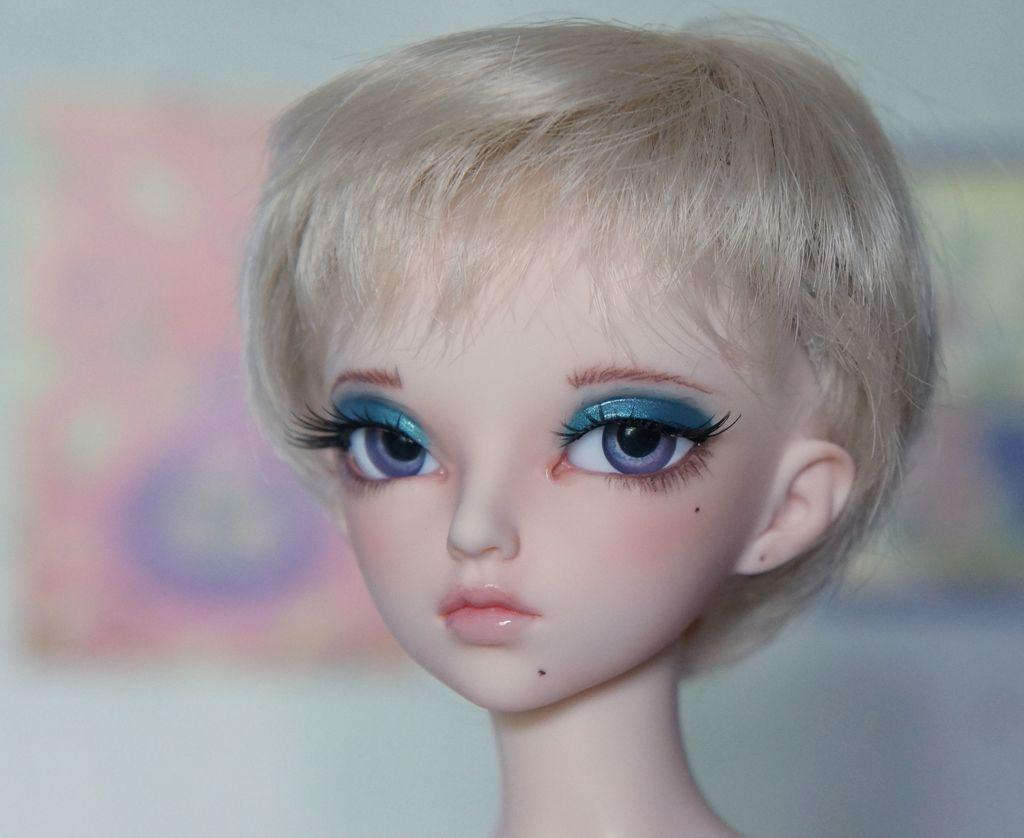Sem Máscara: (280, 188, 778, 714)
